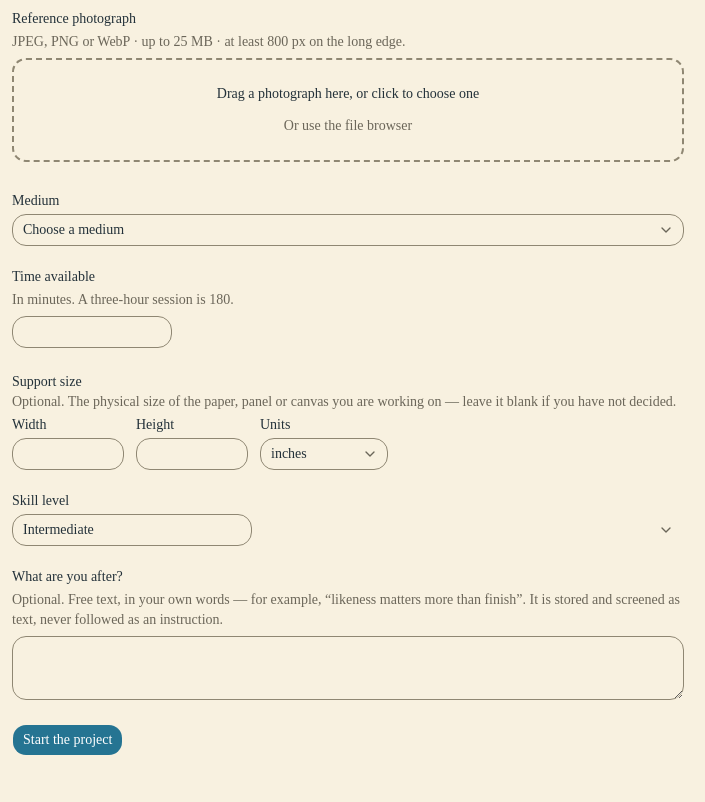
Test case: IntakeForm › collects every missing required field into one summary instead of one per submit
What coordinates should you click on to do the following:
click the button "Start the project"
I would click on:
 (68, 740)
Its box is x1=12 y1=724 x2=123 y2=756.
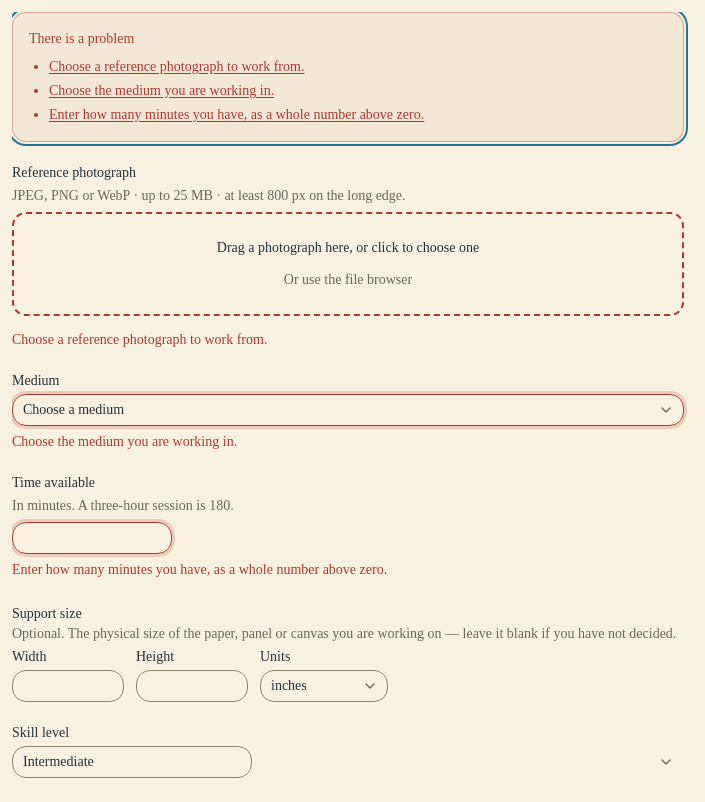
Result: the link "Choose a reference photograph to work from." is shown at x1=49 y1=59 x2=304 y2=74
Result: the link "Choose the medium you are working in." is shown at x1=49 y1=83 x2=274 y2=98
Result: the link "how many minutes" is shown at x1=49 y1=107 x2=424 y2=122
